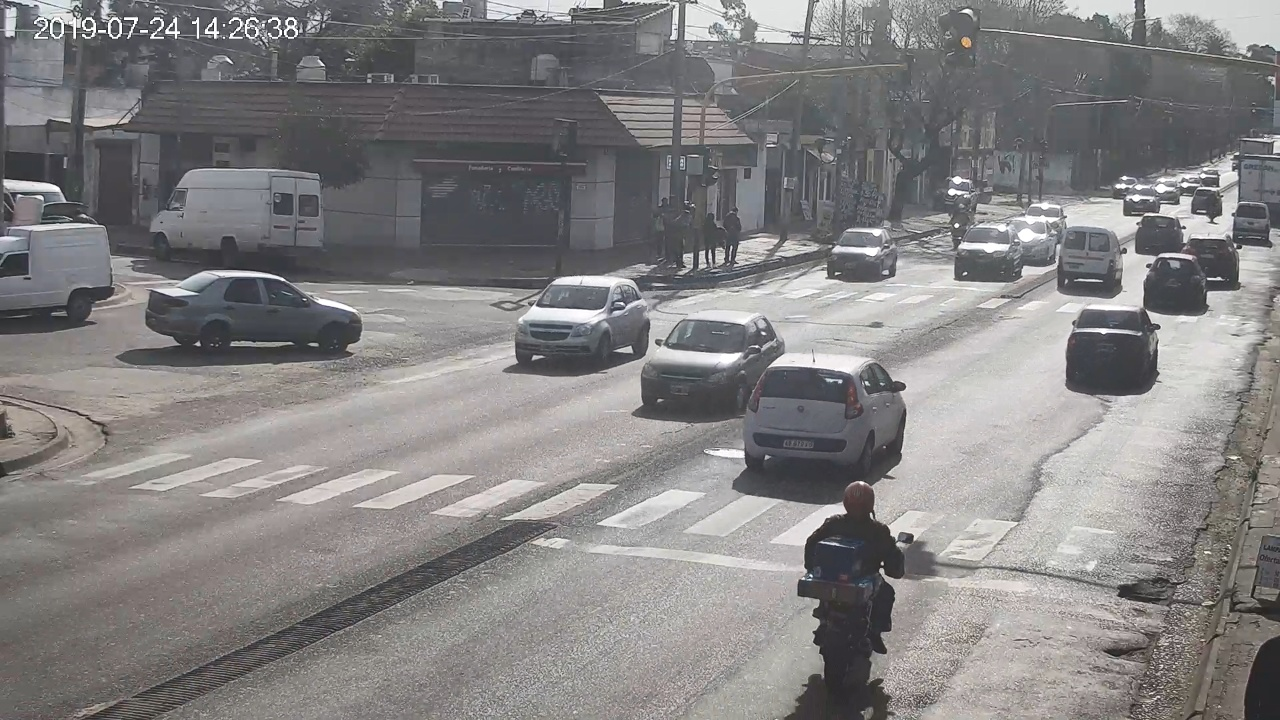car: (744, 352, 907, 474), (1066, 304, 1161, 382), (1058, 226, 1127, 290)
front car: (516, 277, 651, 365)
motorcycle: (798, 531, 915, 687)
traffic light: (957, 8, 976, 66)
